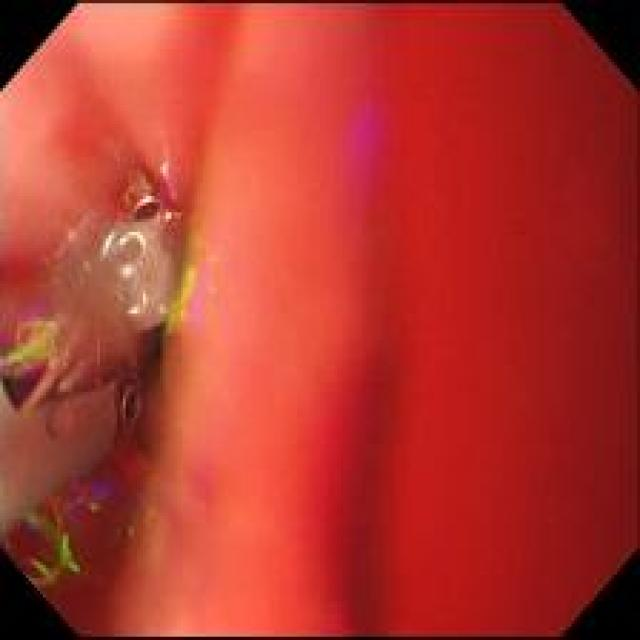color misalignment: (318, 10, 636, 634), (26, 495, 81, 582), (2, 293, 58, 374), (166, 263, 201, 336), (347, 97, 374, 182), (77, 482, 118, 515), (163, 169, 178, 201)
instrument: (3, 173, 183, 539)
specularity: (118, 229, 146, 249), (101, 232, 116, 256), (128, 307, 141, 317), (139, 293, 149, 305), (122, 265, 133, 275)
